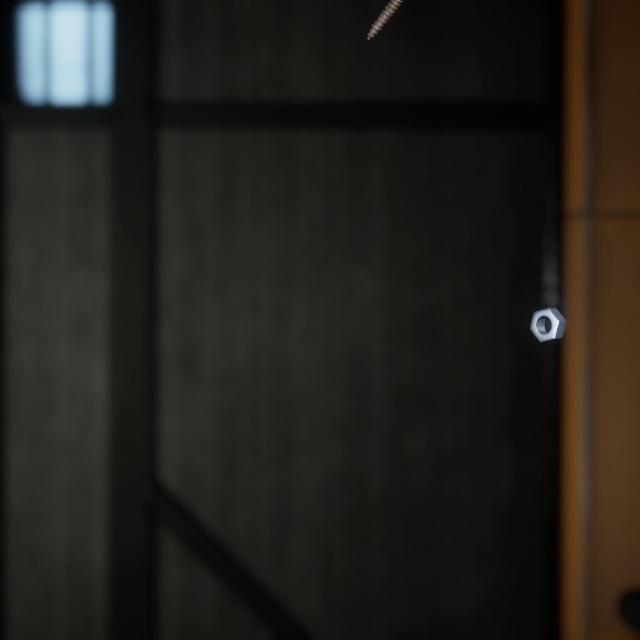bolt: (362, 0, 404, 38)
nut: (525, 285, 570, 329)
